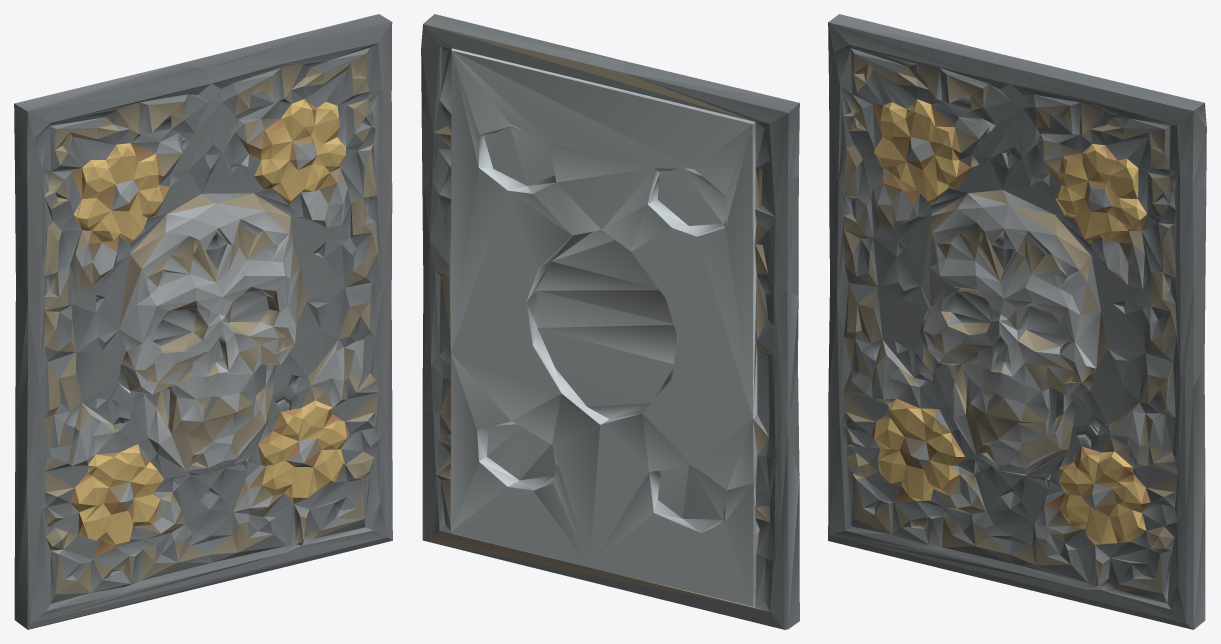
Rendered from clay_wall_panel.glb.
3 views of the same model, side by side, from view 1: azimuth 30°, elevation 25°; view 2: azimuth 150°, elevation 25°; view 3: azimuth 330°, elevation 25° (orthographic).
Parts seen in each view (by area): view 1: Mesh_0; view 2: Mesh_0; view 3: Mesh_0.
Boxes of the visible parts, x1,y1,x2,y2 form: Mesh_0: [14, 14, 392, 629]; Mesh_0: [421, 14, 799, 629]; Mesh_0: [828, 14, 1206, 629].
Size of the model in its own units: 2 by 2.7 by 0.25.
